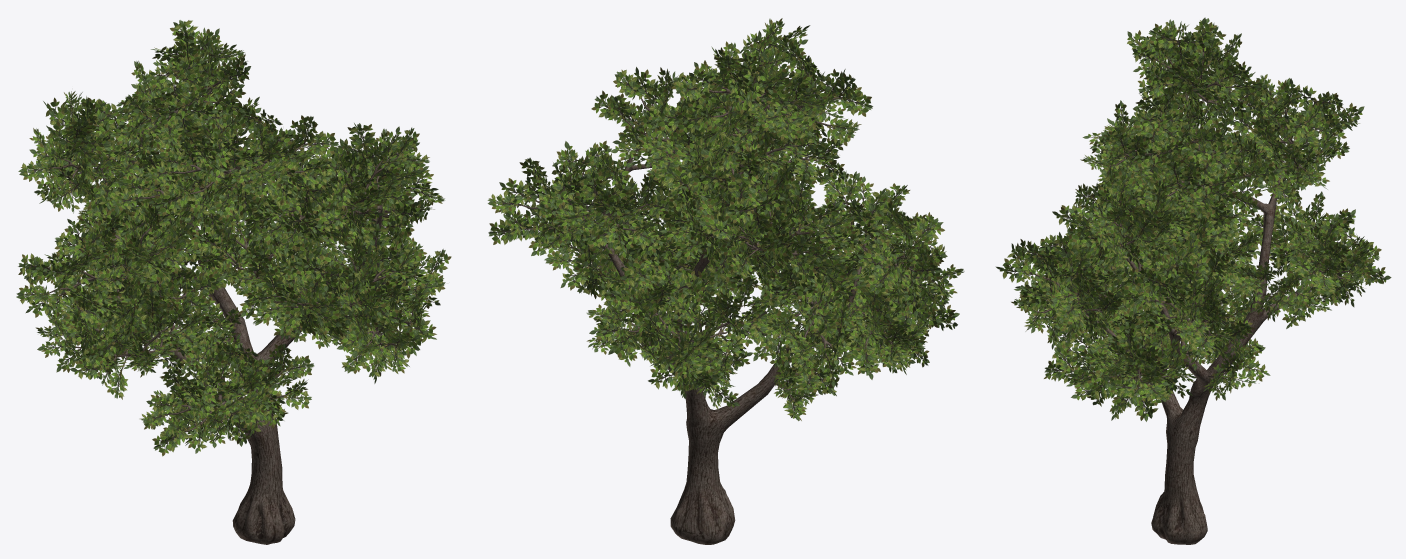
The model's file is realistic_tree.glb.
The picture shows the model from 3 angles, left to right: view 1: azimuth 30°, elevation 25°; view 2: azimuth 150°, elevation 25°; view 3: azimuth 270°, elevation 25°; orthographic projection. The views are drawn at different scales.
Visible parts, largest first — view 1: crown merged, trunk_low, br_low; view 2: crown merged, trunk_low, br_low; view 3: crown merged, trunk_low, br_low.
Part boxes in pixels (box(x1,y1,x2,y2)): crown merged: box(16, 20, 451, 456); trunk_low: box(91, 109, 382, 544); br_low: box(47, 64, 414, 432); crown merged: box(487, 18, 964, 420); trunk_low: box(594, 97, 869, 544); br_low: box(521, 54, 932, 400); crown merged: box(995, 17, 1391, 421); trunk_low: box(1068, 89, 1309, 544); br_low: box(1031, 50, 1349, 383).
Bounding box in the file's own units: 14.35 × 16.05 × 11.72.
2 materials, 2 textured.
